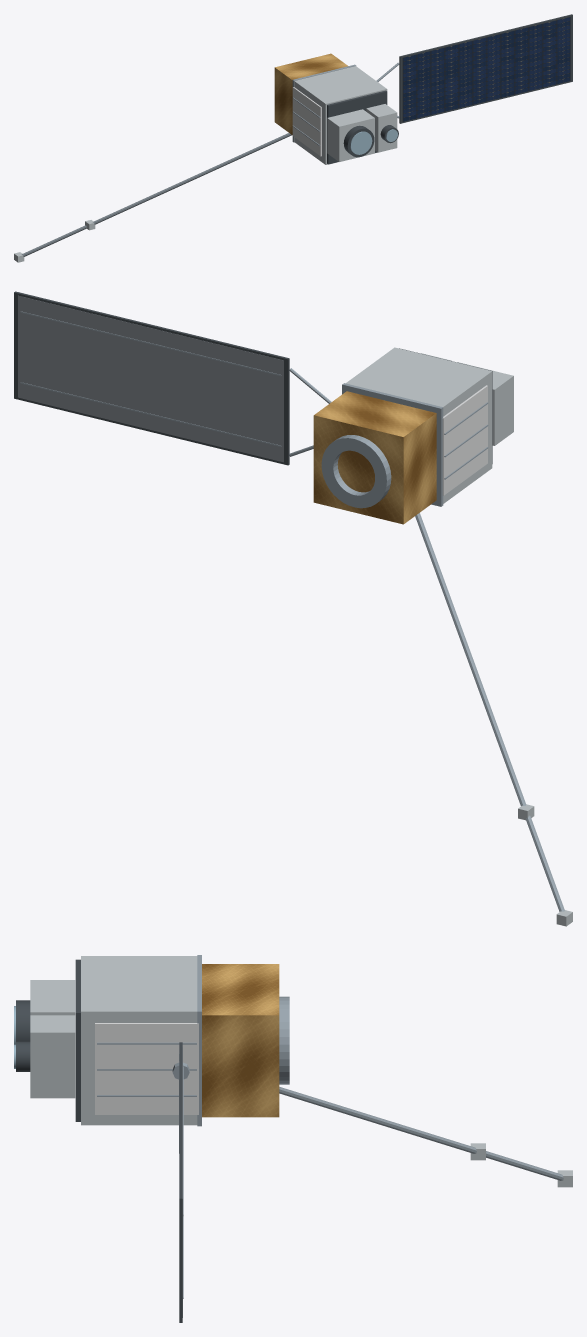
The model's file is goes-n.glb.
The picture shows the model from 3 angles, top to bottom: view 1: azimuth 30°, elevation 25°; view 2: azimuth 150°, elevation 25°; view 3: azimuth 270°, elevation 25°; orthographic projection. The views are drawn at different scales.
Visible parts, largest first — view 1: Solar cell panel, Payload module, Imager bench (×2), Service module, Radiator face, Solar panel frame, Magnetometer boom, Earth-facing deck, Optical aperture, Optical baffle; view 2: Rear array substrate, Service module, Payload module, Radiator face, Solar panel frame, Launch adapter ring, Magnetometer boom, Imager bench, Module interface; view 3: Service module, Payload module, Radiator face, Imager bench (×2), Magnetometer boom, Solar panel frame, Launch adapter ring, Earth-facing deck, Module interface, Optical baffle.
Part boxes in pixels (x1,y1,x2,y2): Solar cell panel: [402, 17, 570, 121]; Payload module: [294, 66, 387, 164]; Imager bench (×2): [327, 104, 397, 161]; Service module: [274, 53, 348, 134]; Radiator face: [292, 87, 321, 156]; Solar panel frame: [399, 14, 572, 123]; Magnetometer boom: [21, 133, 291, 256]; Earth-facing deck: [327, 90, 387, 164]; Optical aperture: [350, 131, 372, 154]; Optical baffle: [343, 125, 374, 157]; Rear array substrate: [18, 295, 283, 462]; Service module: [313, 391, 436, 524]; Payload module: [346, 347, 492, 503]; Radiator face: [442, 385, 487, 495]; Solar panel frame: [14, 291, 289, 465]; Launch adapter ring: [321, 435, 391, 508]; Magnetometer boom: [415, 513, 564, 911]; Imager bench: [457, 362, 513, 445]; Module interface: [342, 383, 443, 506]; Service module: [202, 964, 279, 1117]; Payload module: [81, 956, 197, 1125]; Radiator face: [95, 1023, 198, 1114]; Imager bench (×2): [30, 980, 75, 1098]; Magnetometer boom: [279, 1087, 563, 1180]; Solar panel frame: [179, 1042, 182, 1322]; Launch adapter ring: [279, 996, 289, 1084]; Earth-facing deck: [75, 959, 80, 1121]; Module interface: [197, 955, 201, 1126]; Optical baffle: [16, 1000, 30, 1041].
Size of the model in its own units: 13.85 by 6.19 by 7.97.
8 materials, 2 textured.
